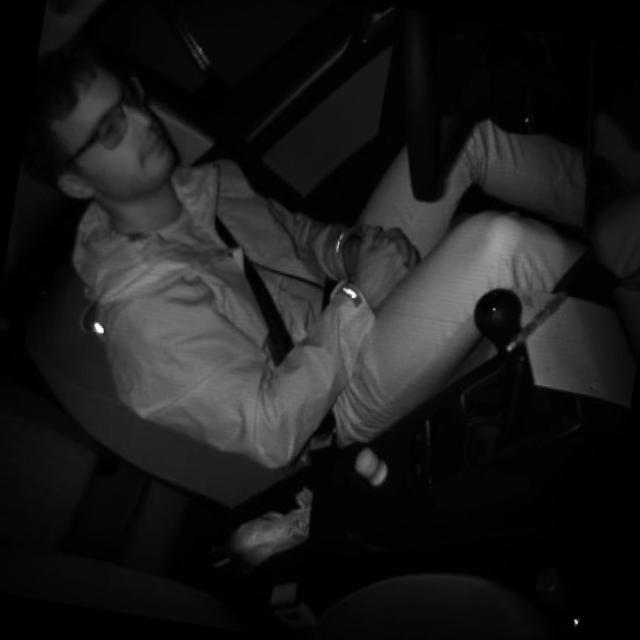pen: (506, 280, 572, 362)
